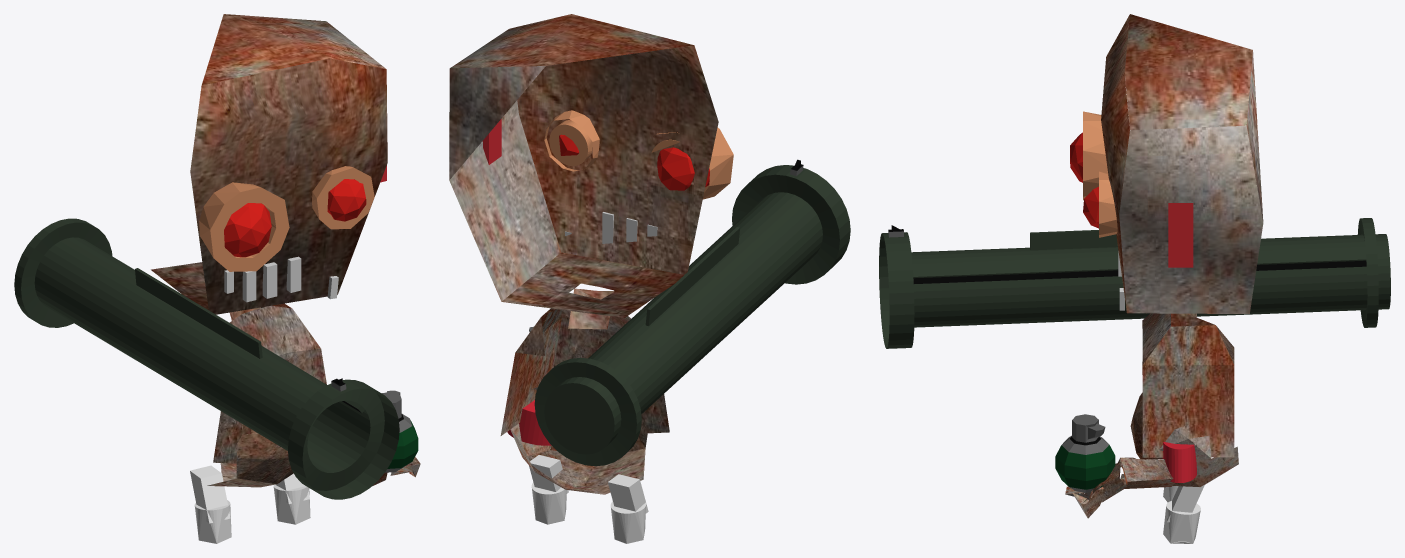
File: VIDA1.fbx
The picture shows the model from 3 angles, left to right: view 1: azimuth 30°, elevation 25°; view 2: azimuth 150°, elevation 25°; view 3: azimuth 270°, elevation 25°; orthographic projection. The views are drawn at different scales.
Visible parts, largest first — view 1: kaf, BAZOOKA.001, Cube.001, Cylinder.006, Sphere, Sphere.001, Cylinder.007, Cube.003, Sphere.002, GRANADA, Cylinder.001, Cylinder (+2 smaller); view 2: kaf, BAZOOKA.001, Cube.001, Sphere, Cylinder.007, Cube.003, Cylinder.006, Sphere.001, Cylinder.001, Cylinder, Cylinder.003, kadis.006; view 3: kaf, BAZOOKA.001, Cube.001, GRANADA, Cube.002, Sphere, kadis.006, Cylinder.006, Cylinder, Cylinder.003, Cylinder.007, Cube.003.
Part boxes in pixels (x1,y1,x2,y2): kaf: [151, 14, 387, 320]; BAZOOKA.001: [14, 218, 399, 499]; Cube.001: [213, 303, 326, 463]; Cylinder.006: [199, 182, 289, 271]; Sphere: [207, 429, 293, 487]; Sphere.001: [224, 203, 271, 257]; Cylinder.007: [312, 166, 374, 229]; Cube.003: [190, 465, 309, 523]; Sphere.002: [327, 179, 366, 221]; GRANADA: [381, 390, 418, 472]; Cylinder.001: [194, 500, 231, 543]; Cylinder: [273, 484, 310, 524]; kaf: [449, 14, 718, 329]; BAZOOKA.001: [534, 159, 850, 466]; Cube.001: [500, 308, 669, 435]; Sphere: [510, 387, 647, 494]; Cylinder.007: [544, 110, 599, 171]; Cube.003: [529, 455, 648, 513]; Cylinder.006: [651, 127, 733, 199]; Sphere.001: [657, 147, 709, 190]; Cylinder.001: [610, 501, 646, 543]; Cylinder: [531, 482, 566, 524]; Cylinder.003: [507, 400, 551, 445]; kadis.006: [482, 119, 501, 164]; kaf: [1101, 14, 1263, 317]; BAZOOKA.001: [879, 218, 1390, 348]; Cube.001: [1142, 313, 1234, 457]; GRANADA: [1055, 414, 1115, 492]; Cube.002: [1065, 457, 1174, 518]; Sphere: [1130, 392, 1238, 486]; kadis.006: [1168, 203, 1193, 267]; Cylinder.006: [1083, 111, 1107, 200]; Cylinder: [1163, 501, 1200, 543]; Cylinder.003: [1162, 442, 1196, 482]; Cylinder.007: [1099, 171, 1117, 237]; Cube.003: [1167, 484, 1204, 522].
Size of the model in its own units: 204 by 350 by 342.
